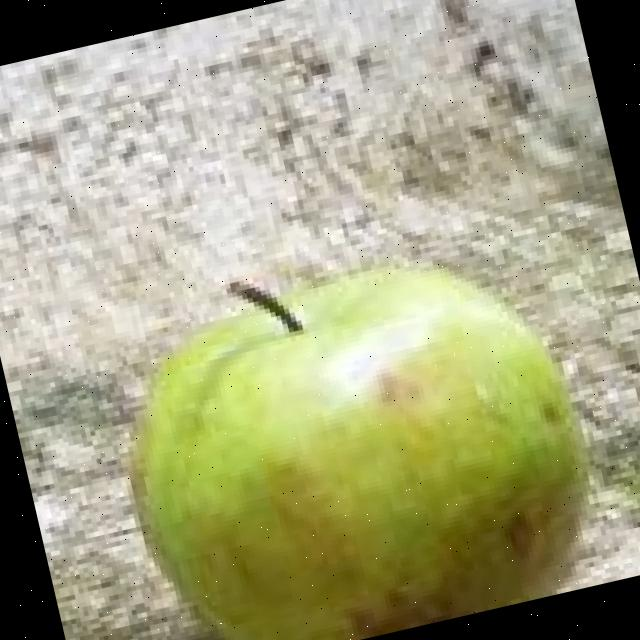Good_Apple 10-21 days: (130, 266, 580, 640)
